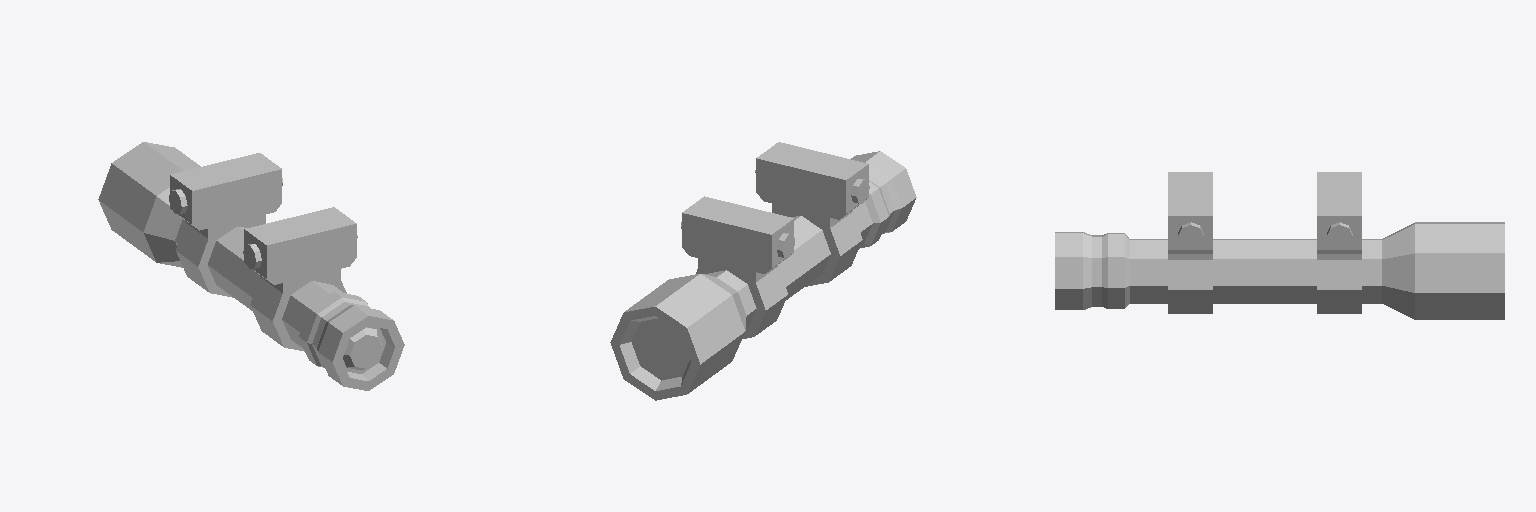
Rendered from Flashlight_East.obj.
The picture shows the model from 3 angles: view 1: azimuth 30°, elevation 25°; view 2: azimuth 150°, elevation 25°; view 3: azimuth 270°, elevation 25°; orthographic projection.
Parts seen in each view (by area): view 1: Flashlight_East; view 2: Flashlight_East; view 3: Flashlight_East.
Part boxes in pixels (bbox=[...]): Flashlight_East: bbox=[98, 142, 404, 390]; Flashlight_East: bbox=[610, 142, 916, 400]; Flashlight_East: bbox=[1055, 172, 1504, 319].
Bounding box in the file's own units: 0.0476 × 0.0557 × 0.1827.